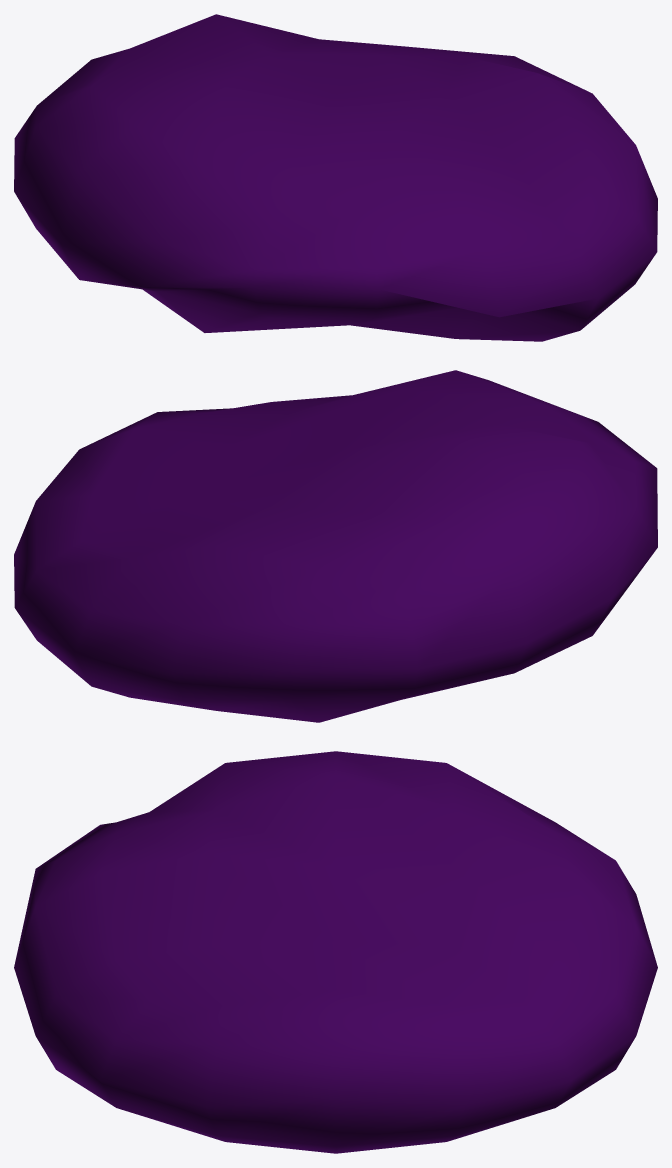
File: Rock1.fbx
3 views of the same model, one above another, from view 1: azimuth 30°, elevation 25°; view 2: azimuth 150°, elevation 25°; view 3: azimuth 270°, elevation 25° (orthographic).
Visible parts, largest first — view 1: Rock; view 2: Rock; view 3: Rock.
Part boxes in pixels (box(x1,y1,x2,y2)): Rock: box(14, 14, 657, 341); Rock: box(14, 370, 657, 722); Rock: box(14, 751, 657, 1153).
Bounding box in the file's own units: 3.72 × 1.59 × 3.83.
